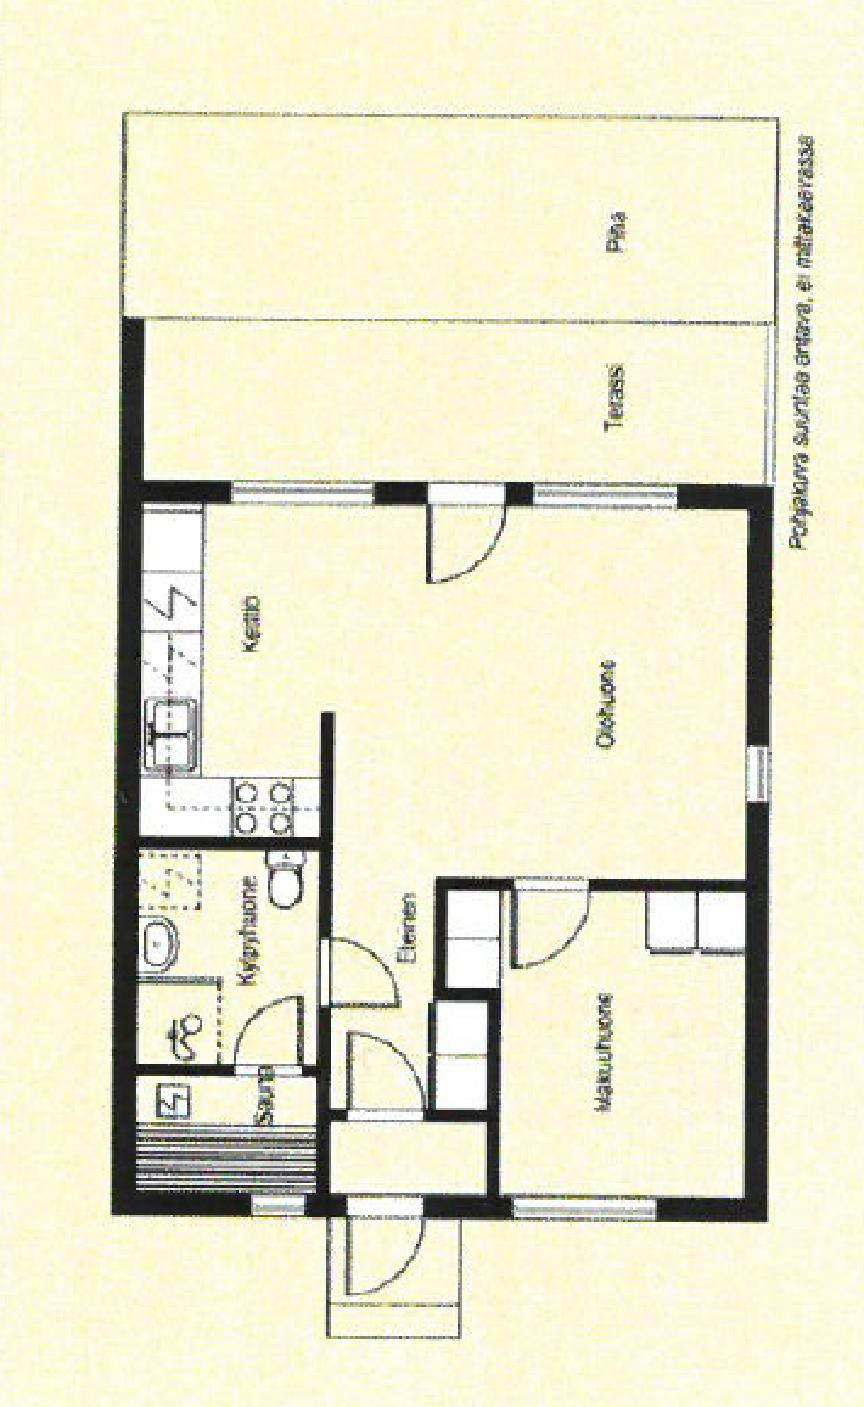door: (420, 483, 515, 590), (339, 1196, 417, 1297), (514, 880, 592, 972), (318, 938, 402, 1015), (224, 995, 299, 1080), (347, 1032, 423, 1115)
window: (515, 1189, 659, 1233), (226, 484, 383, 512), (530, 484, 678, 512), (742, 745, 777, 802), (244, 1192, 300, 1221)
zone: (138, 502, 748, 884), (126, 111, 772, 320), (147, 327, 768, 484), (502, 892, 738, 1193), (141, 848, 317, 1065), (330, 889, 484, 1103), (136, 1074, 317, 1195), (323, 1120, 484, 1196)
